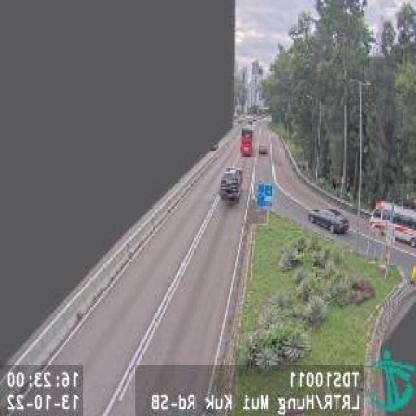Bus: (372, 199, 416, 248), (239, 122, 253, 157)
Car: (306, 205, 350, 235), (218, 166, 242, 206), (258, 142, 270, 158)
